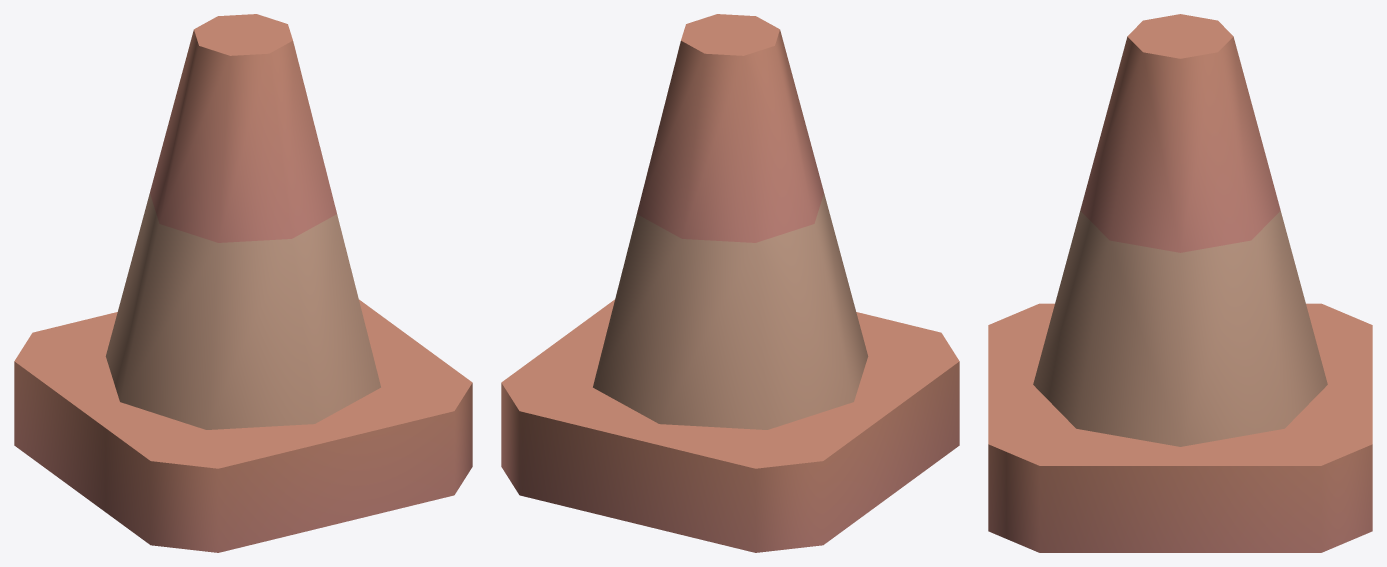
Rendered from construction-cone.glb.
The picture shows the model from 3 angles, left to right: view 1: azimuth 30°, elevation 25°; view 2: azimuth 150°, elevation 25°; view 3: azimuth 270°, elevation 25°; orthographic projection. The views are drawn at different scales.
Visible parts, largest first — view 1: construction-cone; view 2: construction-cone; view 3: construction-cone.
Part boxes in pixels (x1,y1,x2,y2): construction-cone: (14, 14, 472, 552); construction-cone: (501, 14, 959, 552); construction-cone: (988, 14, 1372, 552).
Size of the model in its own units: 0.075 by 0.0938 by 0.075.
